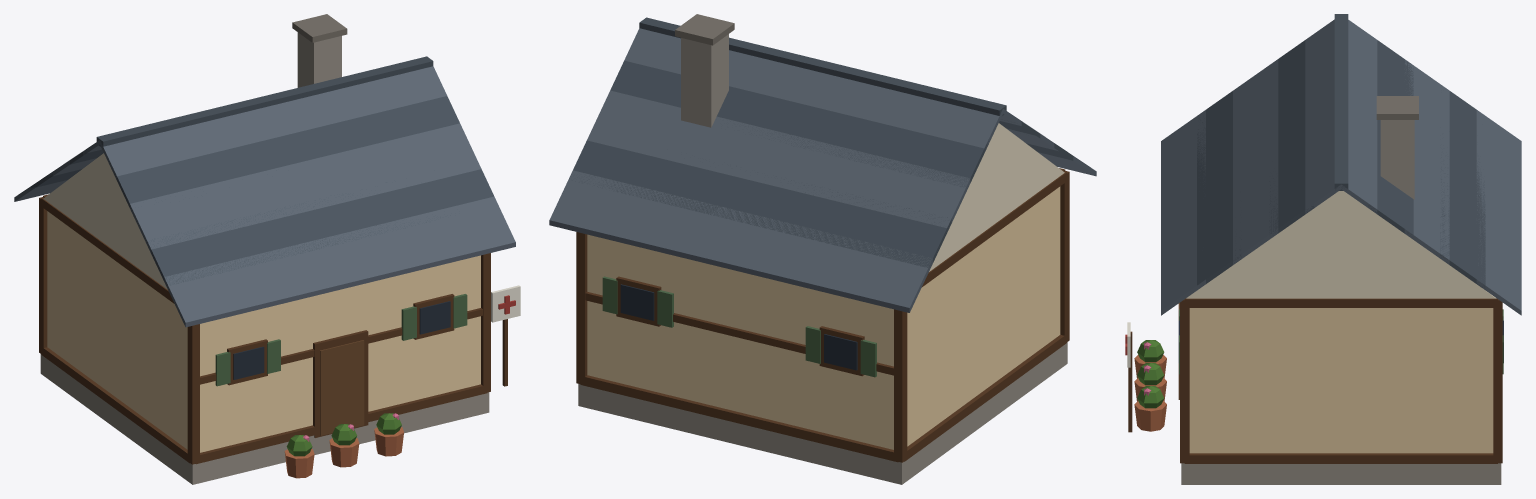
File: physician.glb
3 views of the same model, side by side, from view 1: azimuth 30°, elevation 25°; view 2: azimuth 150°, elevation 25°; view 3: azimuth 270°, elevation 25° (orthographic). The views are drawn at different scales.
Visible parts, largest first — view 1: physician; view 2: physician; view 3: physician.
Part boxes in pixels (x1,y1,x2,y2): physician: (14, 14, 520, 484); physician: (549, 14, 1096, 484); physician: (1125, 14, 1521, 484).
Size of the model in its own units: 5.9 by 5.6 by 5.83.
